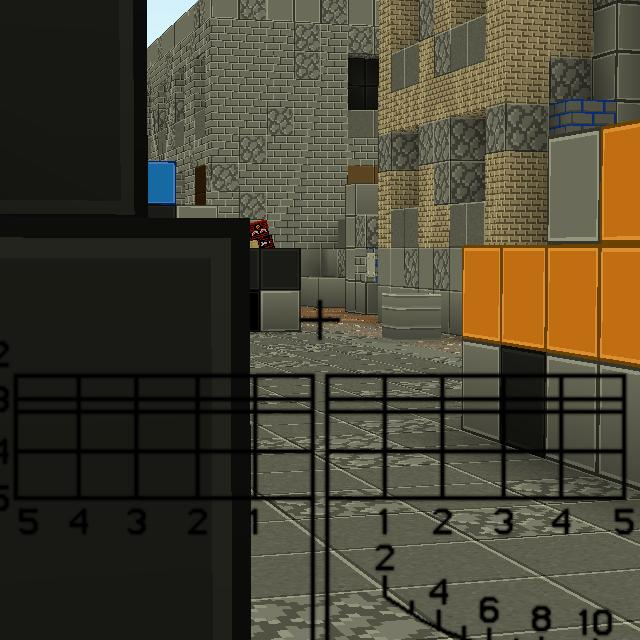enemy: (248, 216, 276, 249)
